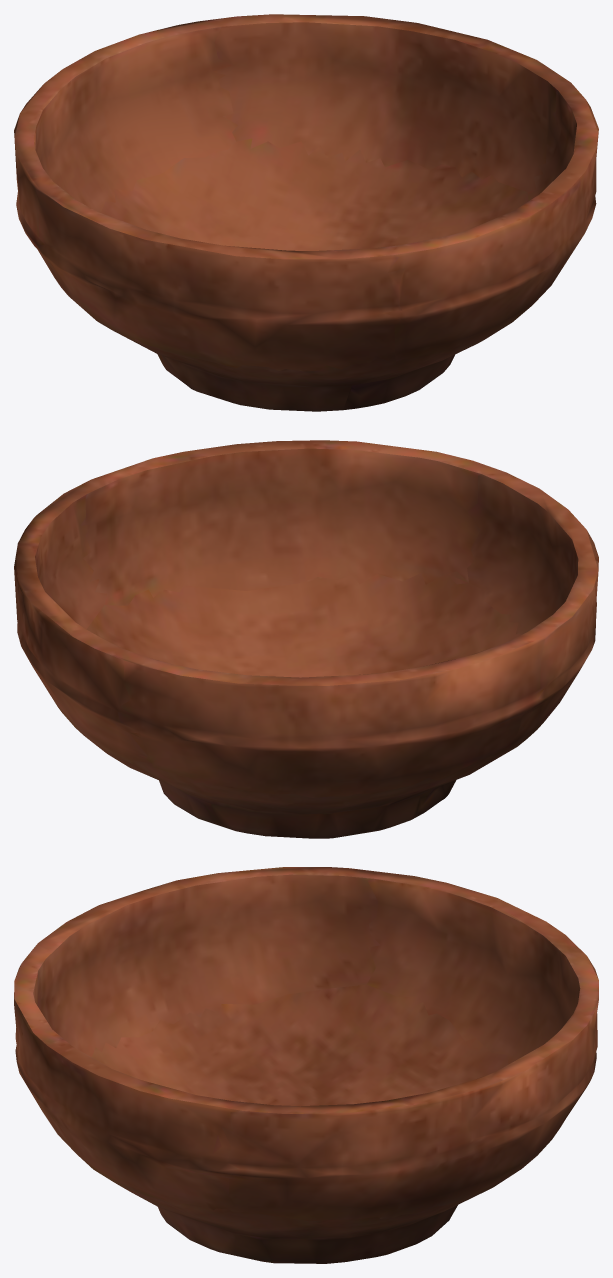
The model's file is simple-terracotta-basin-v001.glb.
3 renders of one model, top to bottom at view 1: azimuth 30°, elevation 25°; view 2: azimuth 150°, elevation 25°; view 3: azimuth 270°, elevation 25°, orthographic.
Parts seen in each view (by area): view 1: simple-terracotta-basin; view 2: simple-terracotta-basin; view 3: simple-terracotta-basin.
Boxes of the visible parts, x1,y1,x2,y2 form: simple-terracotta-basin: (14,14,598,411); simple-terracotta-basin: (14,440,598,838); simple-terracotta-basin: (14,867,598,1263).
Size of the model in its own units: 1.44 by 0.5892 by 1.44.
Materials: 1 (1 with a texture image).
